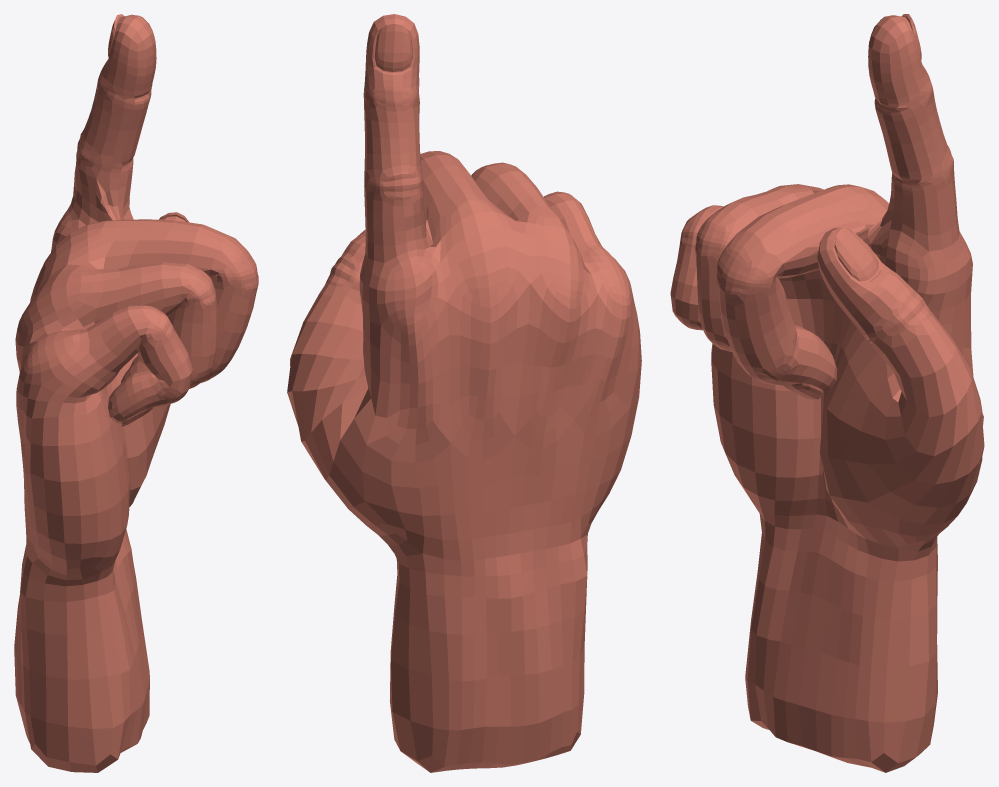
3 renders of one model, left to right at view 1: azimuth 30°, elevation 25°; view 2: azimuth 150°, elevation 25°; view 3: azimuth 270°, elevation 25°, orthographic. The views are drawn at different scales.
Parts seen in each view (by area): view 1: ZBrushPolyMesh3D; view 2: ZBrushPolyMesh3D; view 3: ZBrushPolyMesh3D.
Boxes of the visible parts, left/top/right/bottom form: ZBrushPolyMesh3D: left=14, top=14, right=258, bottom=772; ZBrushPolyMesh3D: left=287, top=14, right=641, bottom=772; ZBrushPolyMesh3D: left=670, top=14, right=984, bottom=772.
Size of the model in its own units: 1.8 by 5.07 by 1.89.
